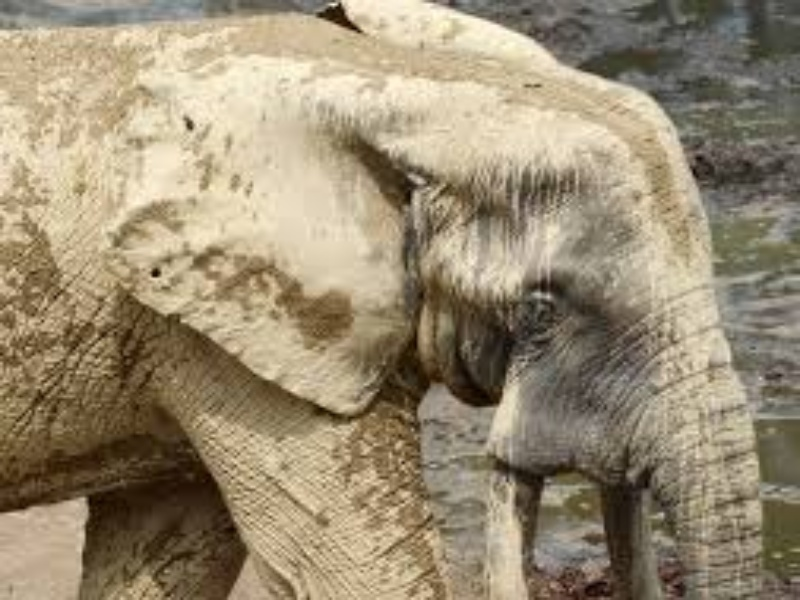elephant: (1, 1, 800, 600)
